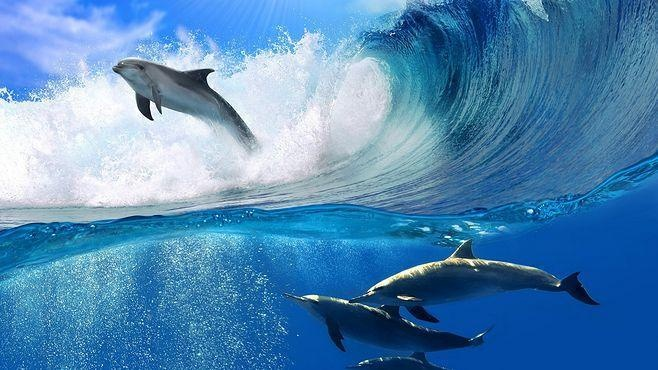fish: (350, 238, 607, 306), (110, 57, 266, 155), (282, 285, 495, 352)
